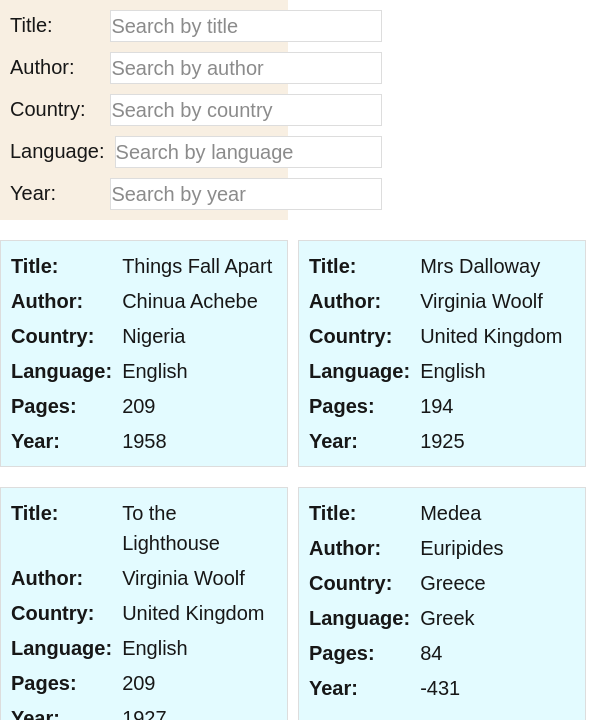
Test case: BookSearch › searching by each field alone › modifying the language field › should filter books on the language get
The width and height of the screenshot is (603, 720).
Type "SPanish" into the field with test id "language" at coordinates (248, 152), box [114, 136, 382, 168]
(page scrolled)
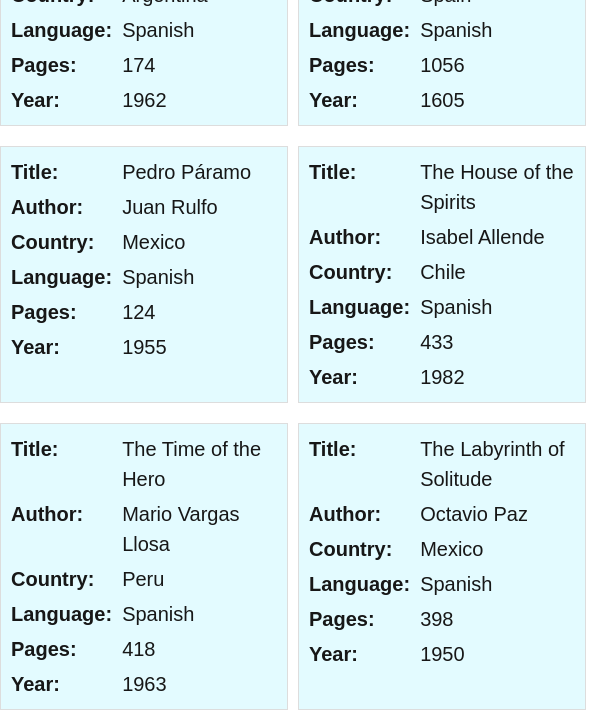
Expected: the text "Juan Rulfo" is shown, [122, 196, 218, 218]
Expected: the text "Isabel Allende" is shown, [420, 226, 545, 248]
Expected: the text "Mario Vargas Llosa" is shown, [122, 503, 240, 555]
